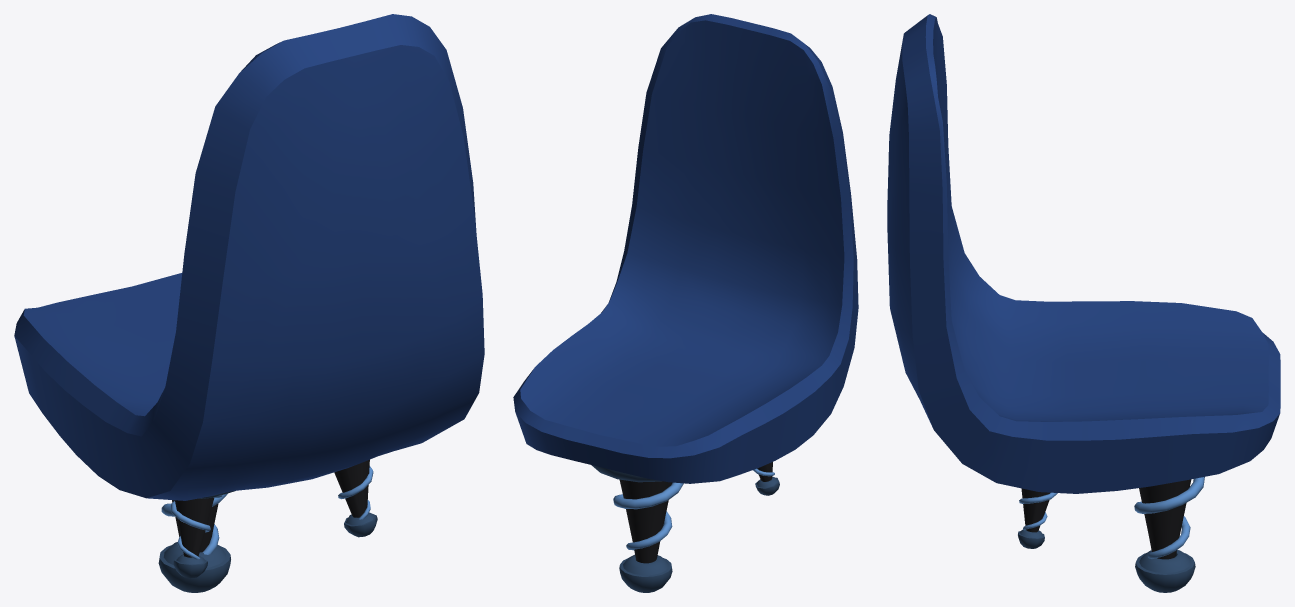
File: Furn_ChairFloating_Blue_A.fbx
3 renders of one model, left to right at view 1: azimuth 30°, elevation 25°; view 2: azimuth 150°, elevation 25°; view 3: azimuth 270°, elevation 25°, orthographic. The views are drawn at different scales.
Visible parts, largest first — view 1: Furn_ChairFloating_Blue_A.001; view 2: Furn_ChairFloating_Blue_A.001; view 3: Furn_ChairFloating_Blue_A.001.
Part boxes in pixels (x1,y1,x2,y2): Furn_ChairFloating_Blue_A.001: [14, 14, 484, 592]; Furn_ChairFloating_Blue_A.001: [513, 14, 858, 592]; Furn_ChairFloating_Blue_A.001: [887, 14, 1280, 592].
Size of the model in its own units: 0.3562 by 0.7057 by 0.458.
